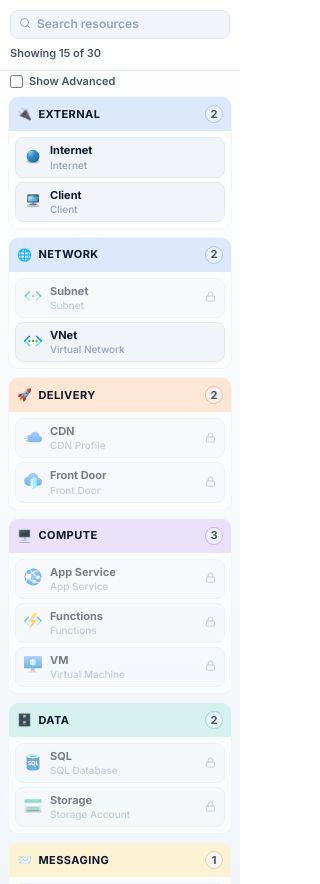
Test: SidebarPalette › collapses and expands external section
Expected: the button titled "Add Internet" is shown, [15,137,225,178]
Click the button with aria-label "Collapse External": (120, 114) [9,97,231,131]
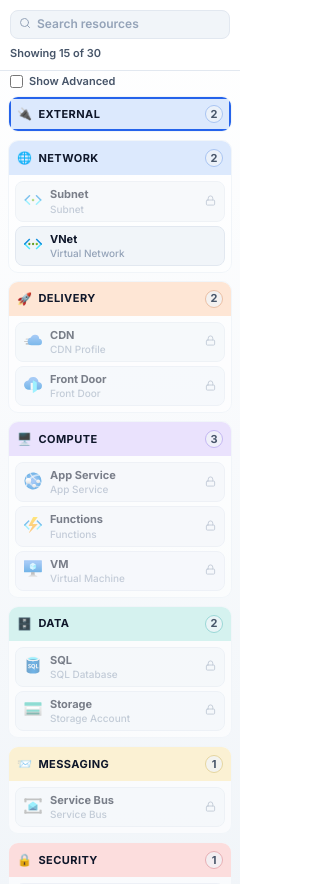
Click the button with aria-label "Expand External": (120, 114) [9,97,231,131]
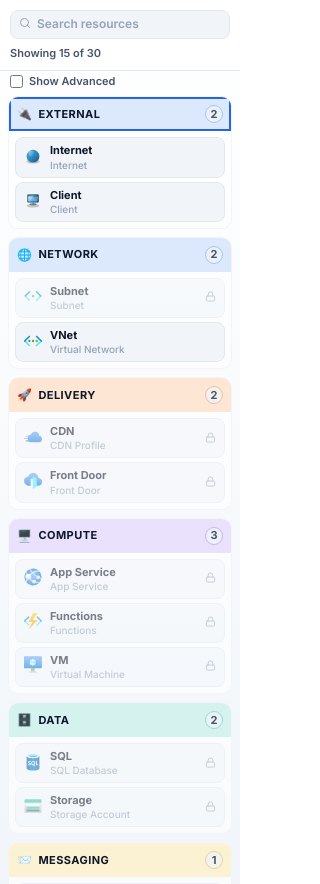
Result: the button titled "Add Internet" is shown at [15,137,225,178]
